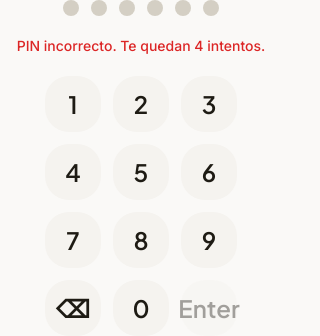
Test: PinPad › clears error message on the next keystroke
Expected: the message "PIN incorrecto. Te quedan 4 intentos." is shown, [17, 36, 265, 56]
Click the button "1".
click(73, 104)  # box [45, 76, 101, 132]
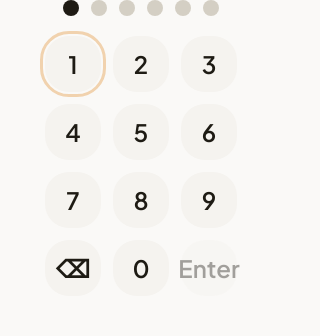
Expected: the message "PIN incorrecto. Te quedan 4 intentos." is gone
